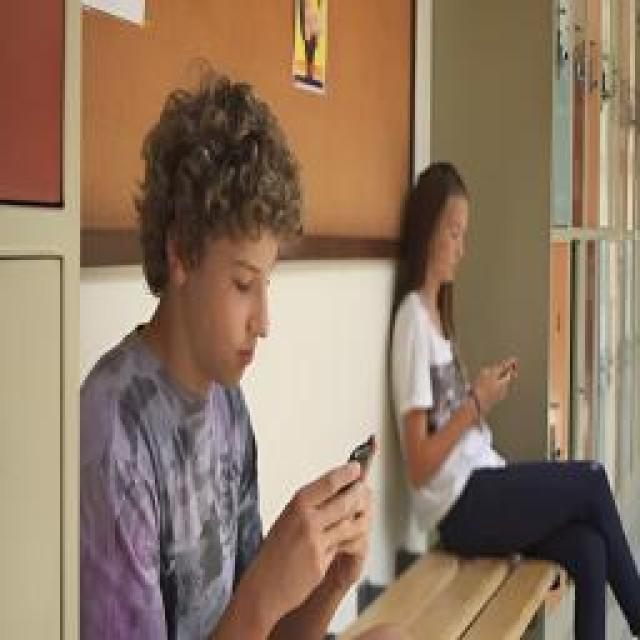phone: (80, 60, 378, 640), (392, 158, 518, 472)
